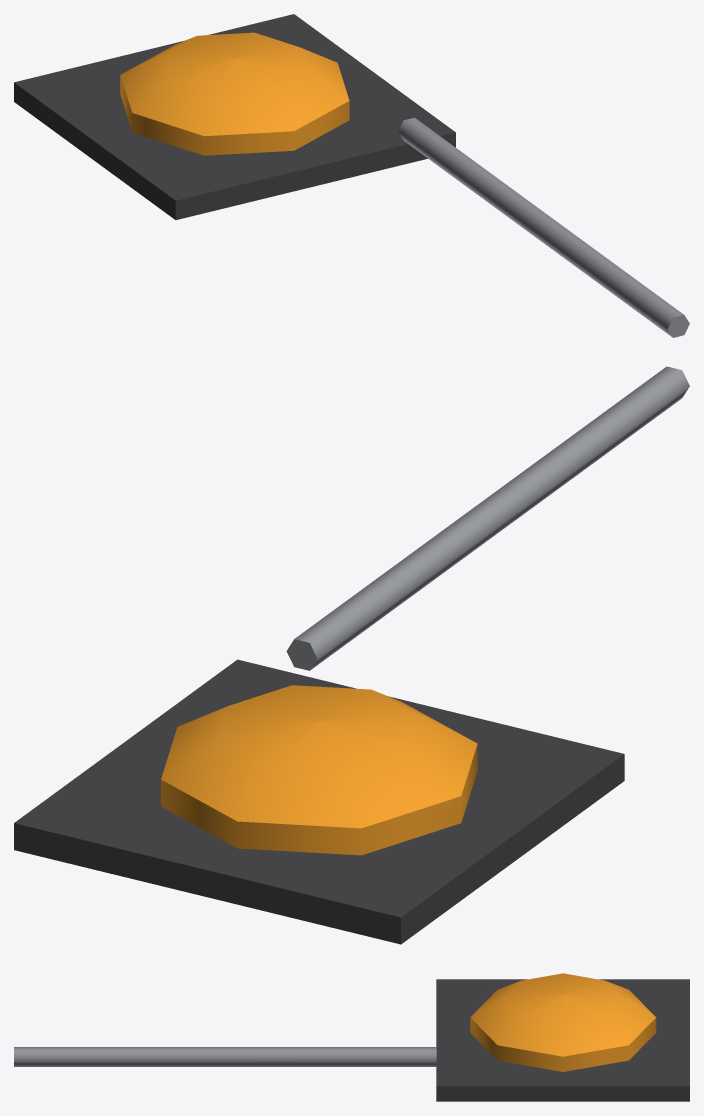
File: pod4_beacon.obj
3 renders of one model, top to bottom at view 1: azimuth 30°, elevation 25°; view 2: azimuth 150°, elevation 25°; view 3: azimuth 270°, elevation 25°, orthographic. The views are drawn at different scales.
Visible parts, largest first — view 1: pod4_beacon; view 2: pod4_beacon; view 3: pod4_beacon.
Part boxes in pixels (<box>): pod4_beacon: <box>14,14,689,337</box>; pod4_beacon: <box>14,366,689,944</box>; pod4_beacon: <box>14,973,689,1101</box>.
Size of the model in its own units: 0.3 by 0.07 by 0.8.
